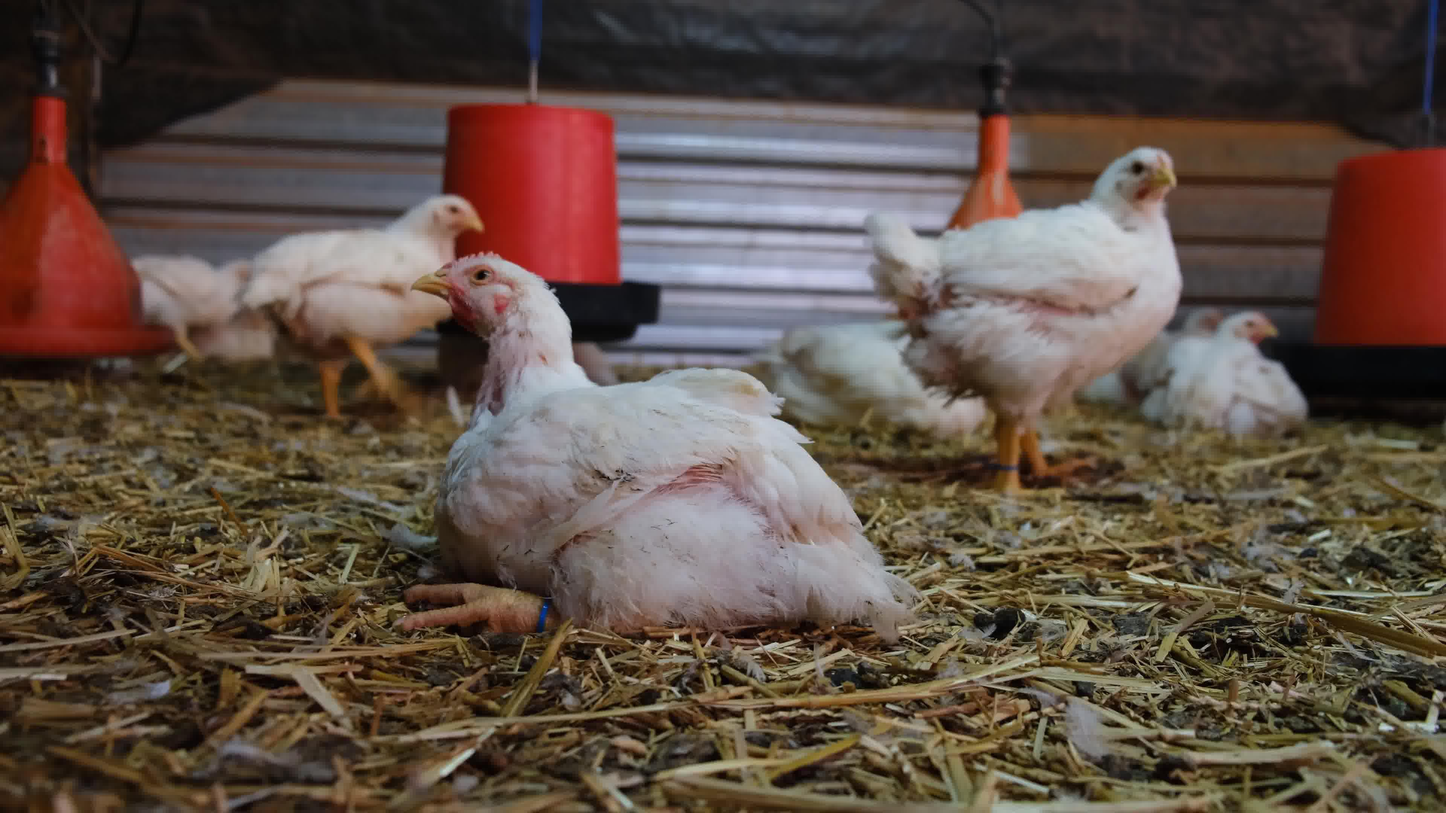AbNormal: (750, 322, 998, 443), (1162, 311, 1311, 432), (1093, 298, 1228, 405), (186, 297, 295, 362)
Normal: (398, 251, 912, 637), (864, 145, 1185, 500), (247, 194, 482, 426), (121, 249, 256, 368)
